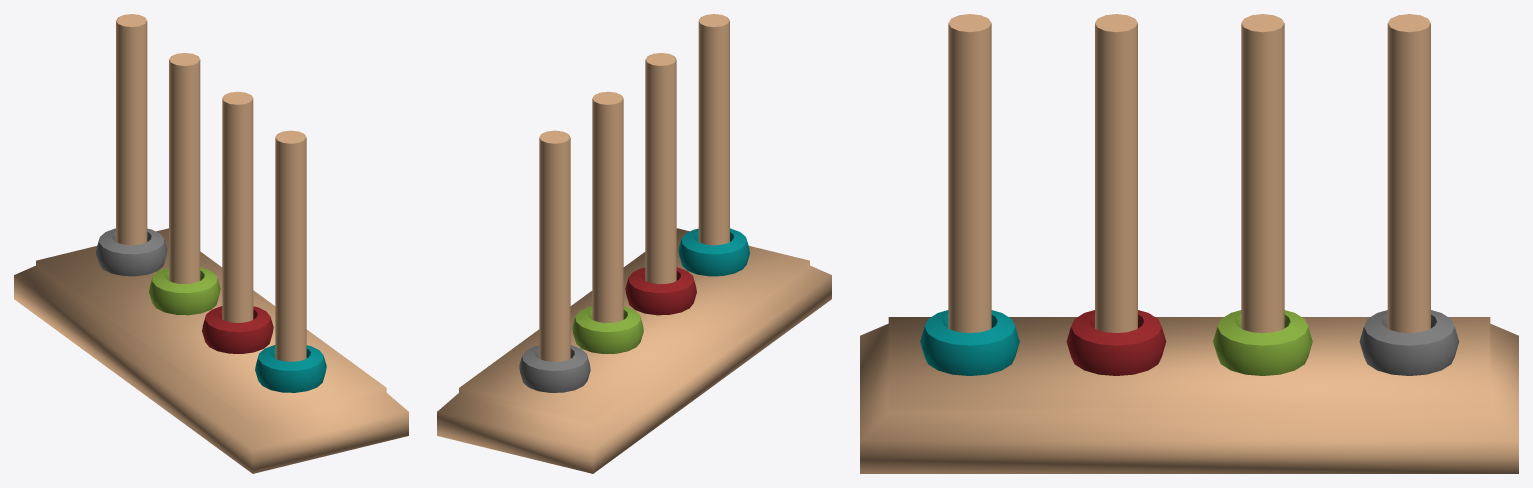
The model's file is Abaco.fbx.
The picture shows the model from 3 angles, left to right: view 1: azimuth 30°, elevation 25°; view 2: azimuth 150°, elevation 25°; view 3: azimuth 270°, elevation 25°; orthographic projection. The views are drawn at different scales.
Parts seen in each view (by area): view 1: Base, Varilla_Crecimiento, Varilla_Carnívoros, Varilla_Plantas, Varilla_Herbívoros, Ficha_Plantas, Ficha_Carnívoros, Ficha_Crecimiento, Ficha_Herbívoros; view 2: Base, Varilla_Plantas, Varilla_Carnívoros, Varilla_Crecimiento, Varilla_Herbívoros, Ficha_Crecimiento, Ficha_Carnívoros, Ficha_Herbívoros, Ficha_Plantas; view 3: Base, Varilla_Crecimiento, Varilla_Plantas, Varilla_Herbívoros, Varilla_Carnívoros, Ficha_Herbívoros, Ficha_Plantas, Ficha_Crecimiento, Ficha_Carnívoros.
Boxes of the visible parts, left/top/right/bottom form: Base: left=14, top=228, right=408, bottom=473; Varilla_Crecimiento: left=116, top=14, right=147, bottom=245; Varilla_Carnívoros: left=222, top=91, right=253, bottom=322; Varilla_Plantas: left=275, top=130, right=306, bottom=361; Varilla_Herbívoros: left=169, top=53, right=200, bottom=283; Ficha_Plantas: left=255, top=345, right=326, bottom=392; Ficha_Carnívoros: left=202, top=306, right=273, bottom=353; Ficha_Crecimiento: left=96, top=228, right=167, bottom=276; Ficha_Herbívoros: left=149, top=267, right=220, bottom=315; Base: left=437, top=228, right=831, bottom=473; Varilla_Plantas: left=698, top=14, right=729, bottom=245; Varilla_Carnívoros: left=645, top=53, right=676, bottom=284; Varilla_Crecimiento: left=539, top=130, right=570, bottom=361; Varilla_Herbívoros: left=592, top=91, right=623, bottom=322; Ficha_Crecimiento: left=519, top=345, right=590, bottom=392; Ficha_Carnívoros: left=625, top=267, right=696, bottom=315; Ficha_Herbívoros: left=572, top=306, right=643, bottom=353; Ficha_Plantas: left=678, top=228, right=749, bottom=276; Base: left=860, top=317, right=1518, bottom=473; Varilla_Crecimiento: left=1387, top=14, right=1430, bottom=333; Varilla_Plantas: left=948, top=14, right=991, bottom=332; Varilla_Herbívoros: left=1241, top=14, right=1284, bottom=332; Varilla_Carnívoros: left=1095, top=14, right=1137, bottom=332; Ficha_Herbívoros: left=1213, top=310, right=1312, bottom=375; Ficha_Plantas: left=920, top=310, right=1019, bottom=375; Ficha_Crecimiento: left=1359, top=310, right=1459, bottom=375; Ficha_Carnívoros: left=1066, top=310, right=1166, bottom=375.
Size of the model in its own units: 166 by 293 by 439.
Materials: 5 (1 with a texture image).
